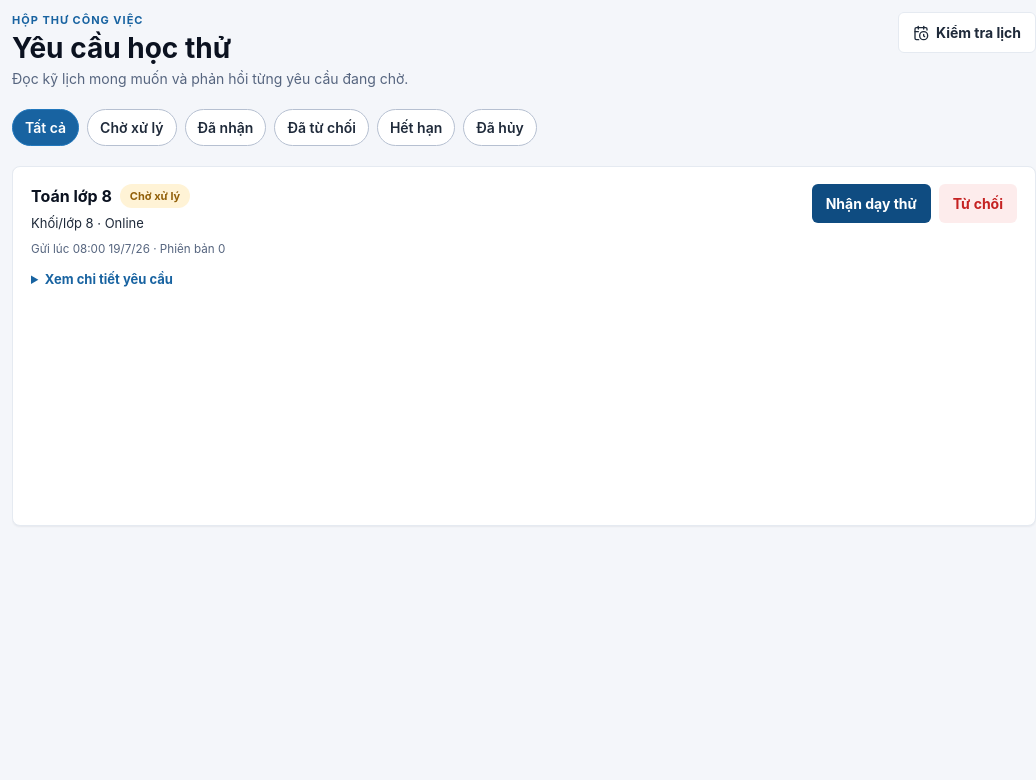
Test: TrialsPage › applies the current server state from a parent-cancel race conflict
Click the button "Nhận dạy thử" at (871, 203), box [812,184,931,222]
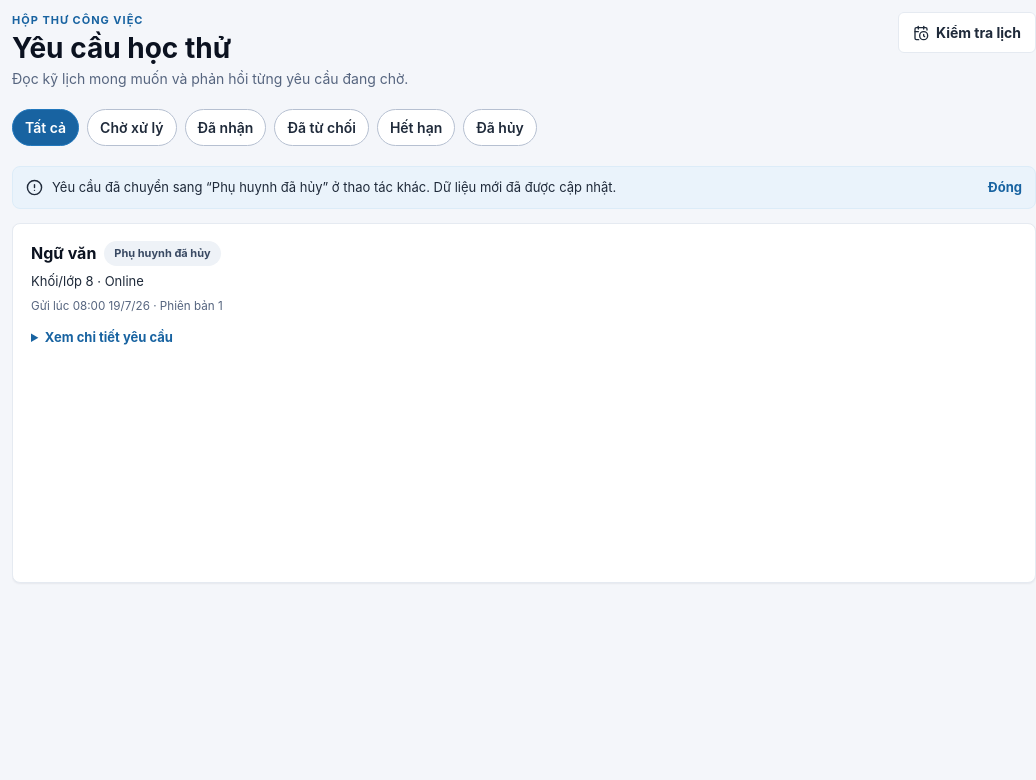
expect the button "Nhận dạy thử" is gone: met
expect the text "Phụ huynh đã hủy" is shown: met, box [104,241,221,266]
